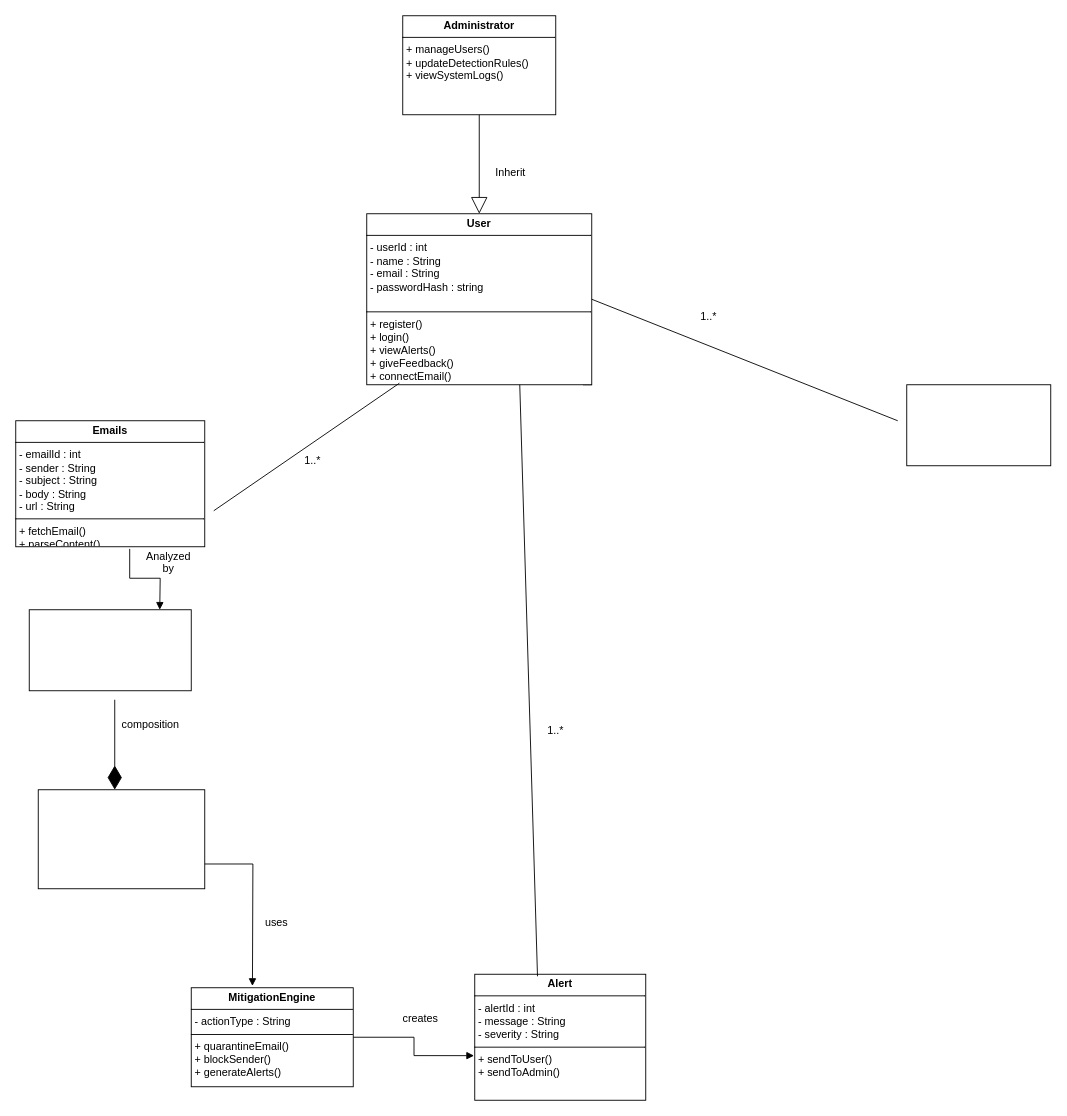
The diagram is 1067 pixels wide and 1116 high, and some of its shapes have lost their labels. The centre of each missing label's shape, as x and y in pixels:
"Feedback - FeedbackId : int - comment : String + storeFeedback()" belongs at (978,425).
"PhishingAnalyzer - indicators :List + analyzeEmail() + extractIndicators()" belongs at (109,650).
"RiskScorer - riskScore :int + calculateRiskScore() + classifyEmails()" belongs at (121,839).
